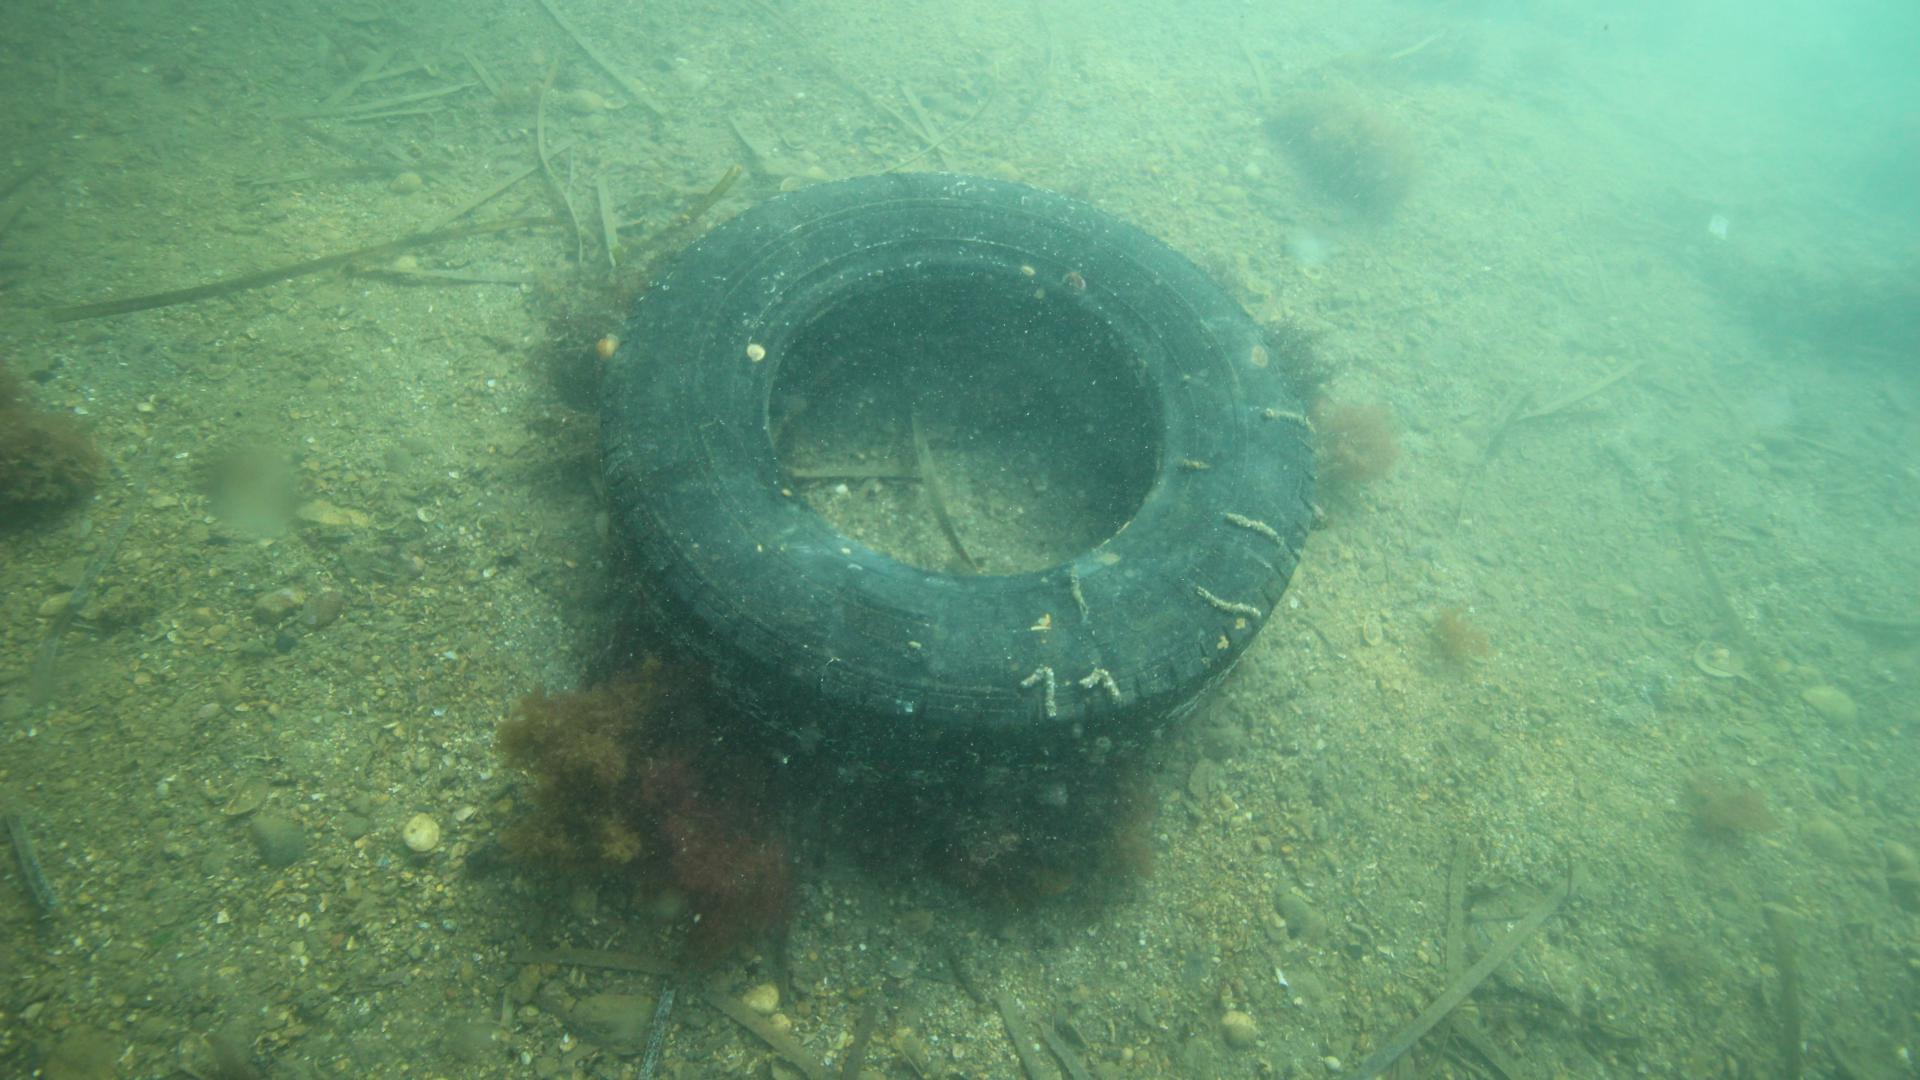tire: (587, 162, 1320, 752)
